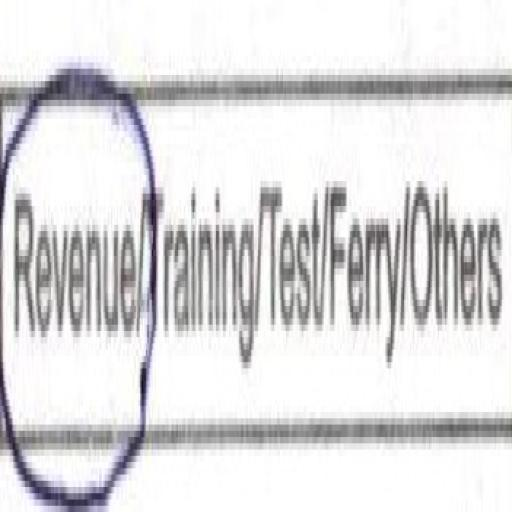check: (0, 37, 141, 511)
